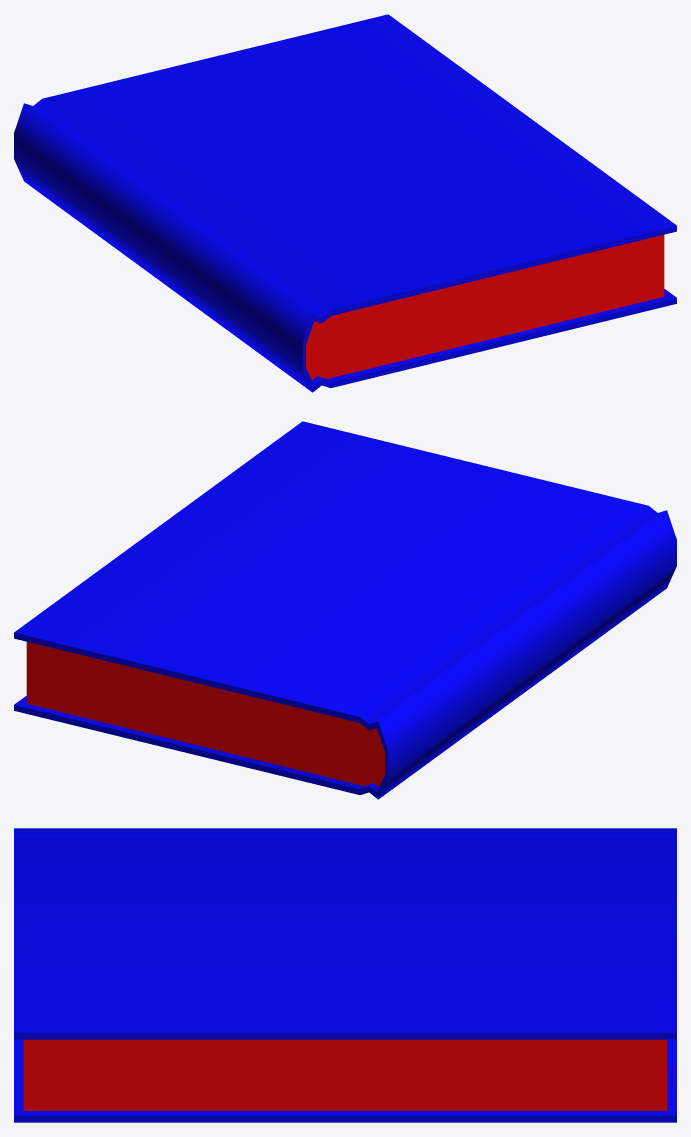
Rendered from Her_Book3_ZW.fbx.
3 views of the same model, one above another, from view 1: azimuth 30°, elevation 25°; view 2: azimuth 150°, elevation 25°; view 3: azimuth 270°, elevation 25° (orthographic). The views are drawn at different scales.
Visible parts, largest first — view 1: Box002; view 2: Box002; view 3: Box002.
Part boxes in pixels (bbox=[...]): Box002: bbox=[14, 14, 676, 392]; Box002: bbox=[14, 421, 676, 799]; Box002: bbox=[14, 828, 676, 1122].
Size of the model in its own units: 2.71 by 0.5403 by 3.61.
